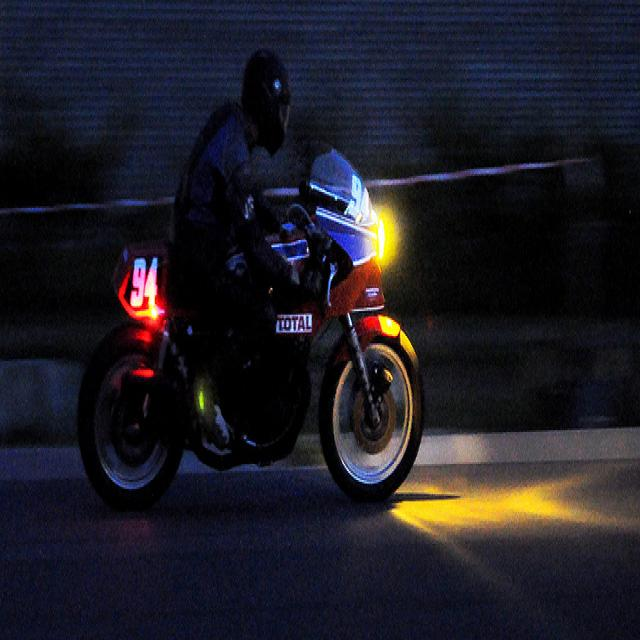Motorbike: (75, 131, 430, 507)
People: (167, 47, 356, 466)
